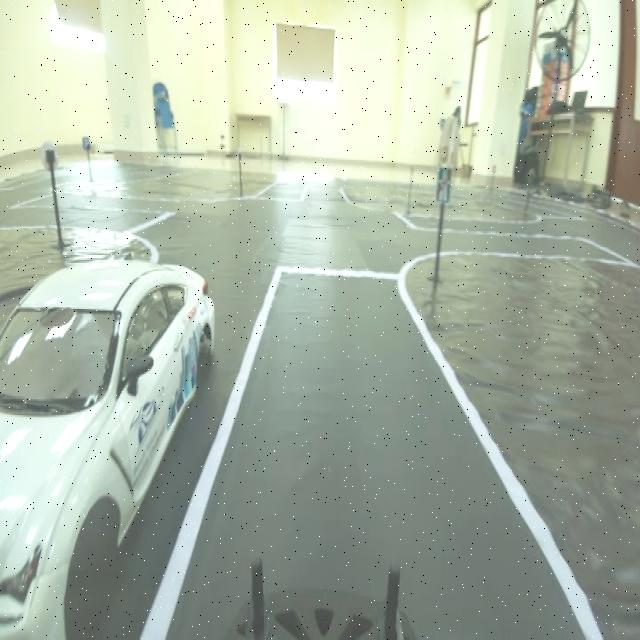car: (0, 215, 214, 621)
highway_exit: (432, 154, 458, 216)
